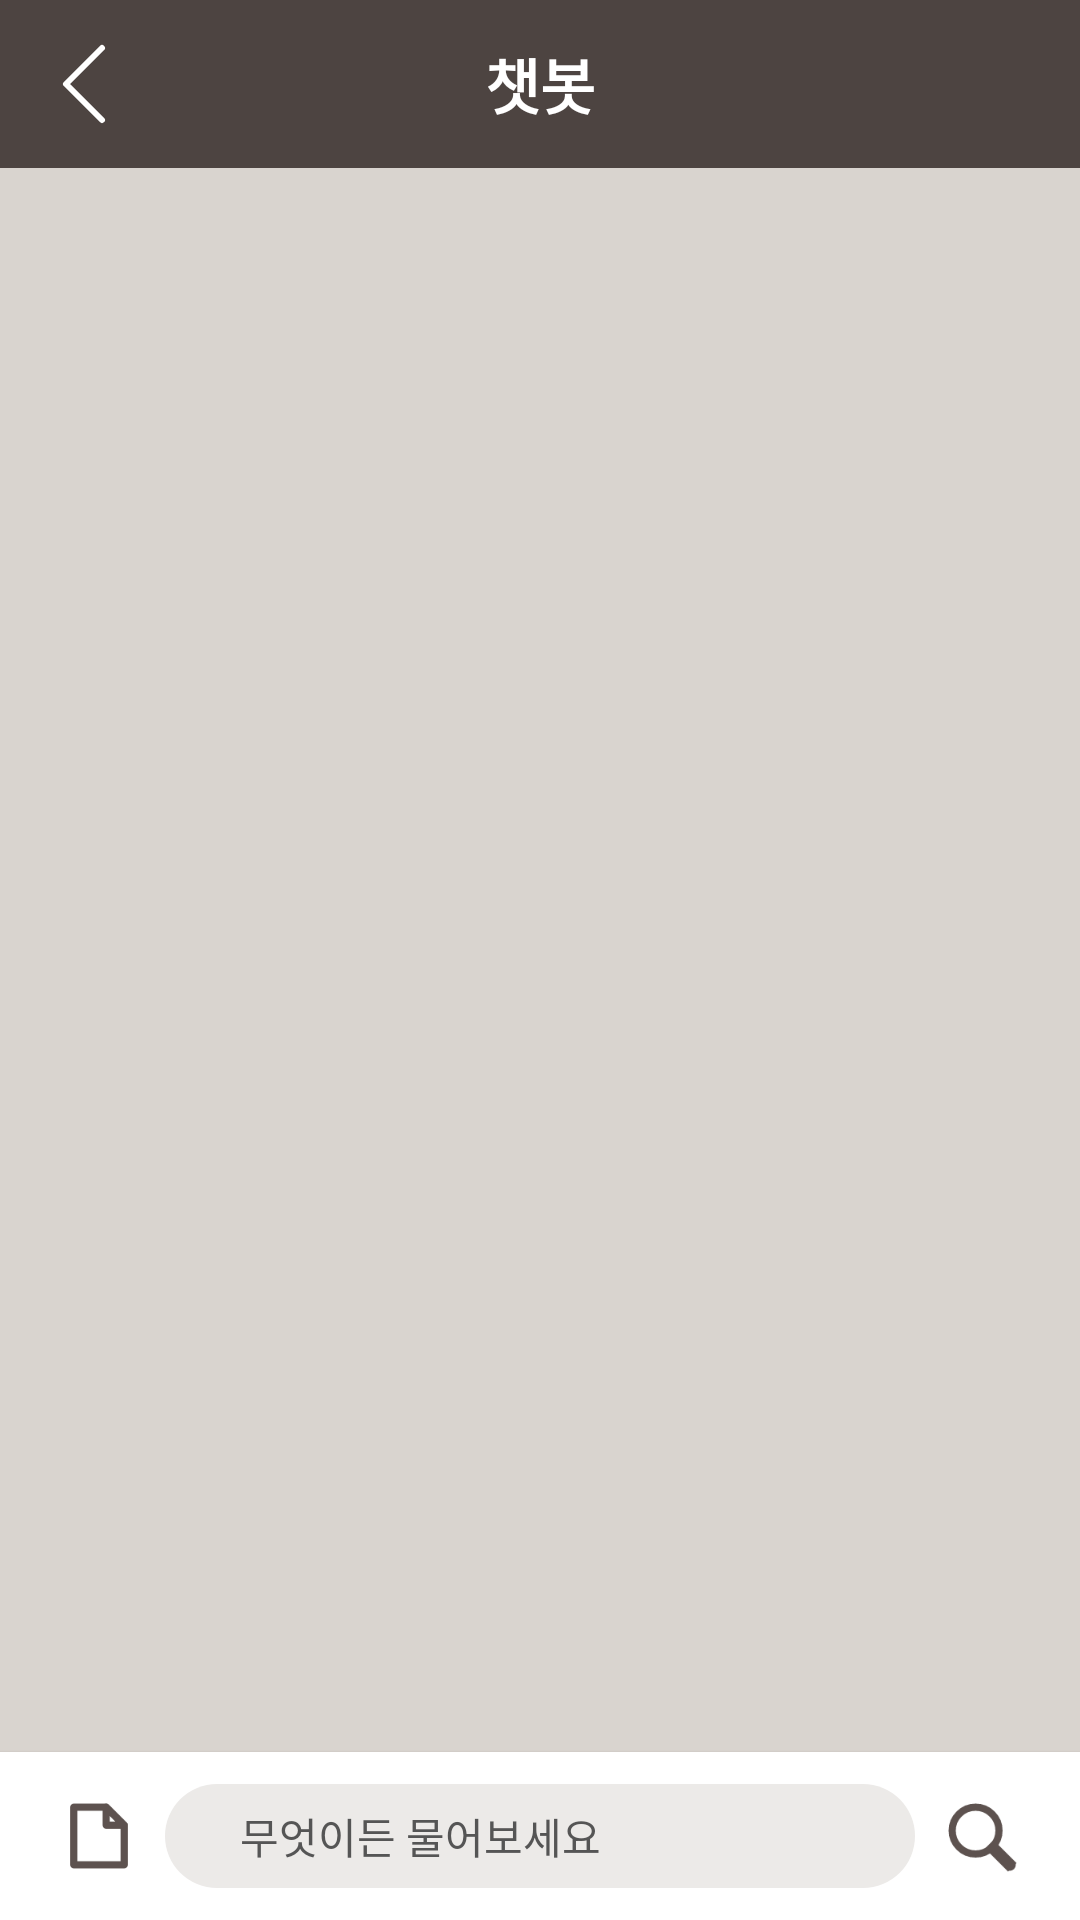

Icons on this 1080×1920 Android screen, each with the point to tap as [x,y]:
back: [84,83]
